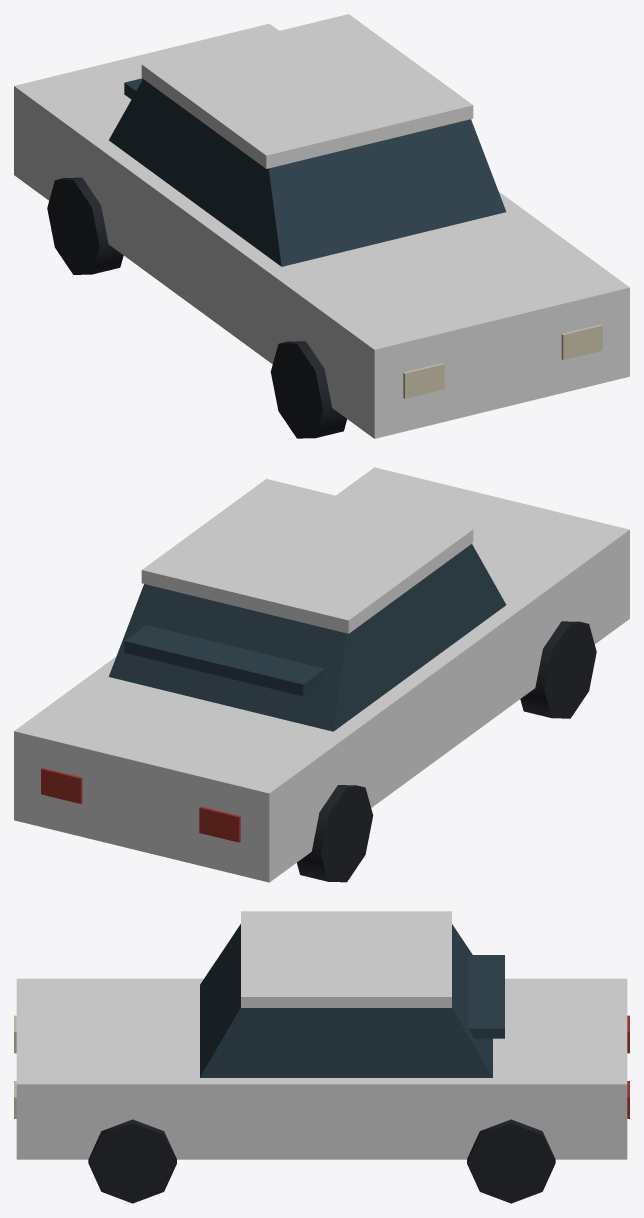
Rendered from veh_car_6.5391c0e9f71d.glb.
3 renders of one model, top to bottom at view 1: azimuth 30°, elevation 25°; view 2: azimuth 150°, elevation 25°; view 3: azimuth 270°, elevation 25°, orthographic. The views are drawn at different scales.
Parts seen in each view (by area): view 1: LOD0; view 2: LOD0; view 3: LOD0.
Boxes of the visible parts, x1,y1,x2,y2 form: LOD0: [14, 14, 629, 438]; LOD0: [14, 467, 629, 882]; LOD0: [14, 911, 629, 1203].
Size of what is drawn, in the model's own units: 1.93 by 1.54 by 4.44.
